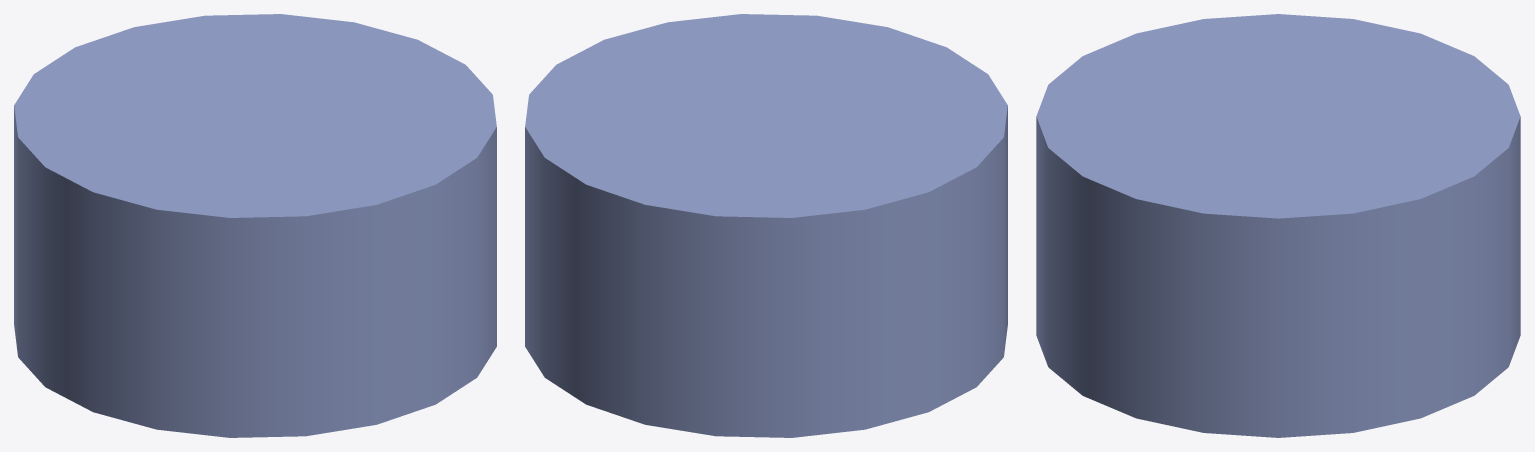
Rendered from Light.FBX.
3 renders of one model, left to right at view 1: azimuth 30°, elevation 25°; view 2: azimuth 150°, elevation 25°; view 3: azimuth 270°, elevation 25°, orthographic.
Visible parts, largest first — view 1: Cylinder29; view 2: Cylinder29; view 3: Cylinder29.
Boxes of the visible parts, left/top/right/bottom form: Cylinder29: left=14, top=14, right=496, bottom=437; Cylinder29: left=525, top=14, right=1007, bottom=437; Cylinder29: left=1036, top=14, right=1520, bottom=437.
Size of the model in its own units: 800 by 800 by 400.
